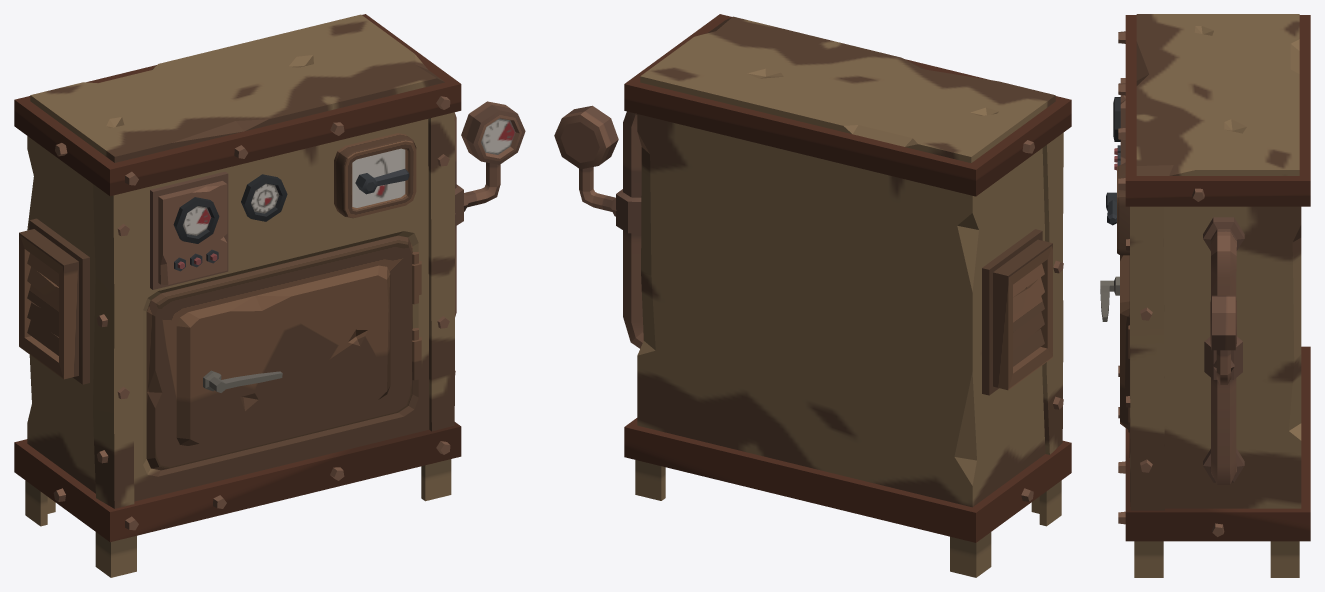
The model's file is SM_Prop_Generator_01.fbx.
The picture shows the model from 3 angles, left to right: view 1: azimuth 30°, elevation 25°; view 2: azimuth 150°, elevation 25°; view 3: azimuth 270°, elevation 25°; orthographic projection. The views are drawn at different scales.
Parts seen in each view (by area): view 1: SM_Prop_Generator_01; view 2: SM_Prop_Generator_01; view 3: SM_Prop_Generator_01.
Part boxes in pixels (x1,y1,x2,y2): SM_Prop_Generator_01: (14, 14, 525, 577); SM_Prop_Generator_01: (554, 14, 1071, 577); SM_Prop_Generator_01: (1100, 14, 1310, 577).
Bounding box in the file's own units: 240 × 203 × 95.31.
